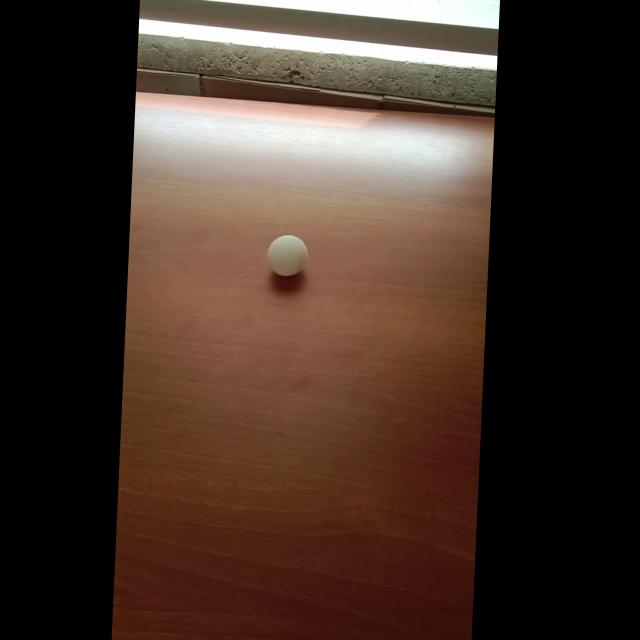white ball: (265, 234, 309, 276)
